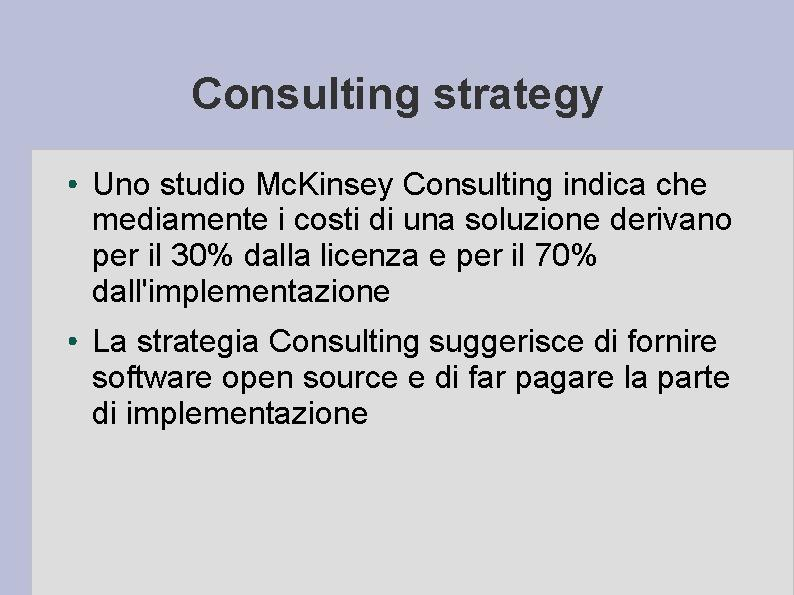paragraph: (56, 158, 755, 444)
title: (177, 61, 616, 131)
